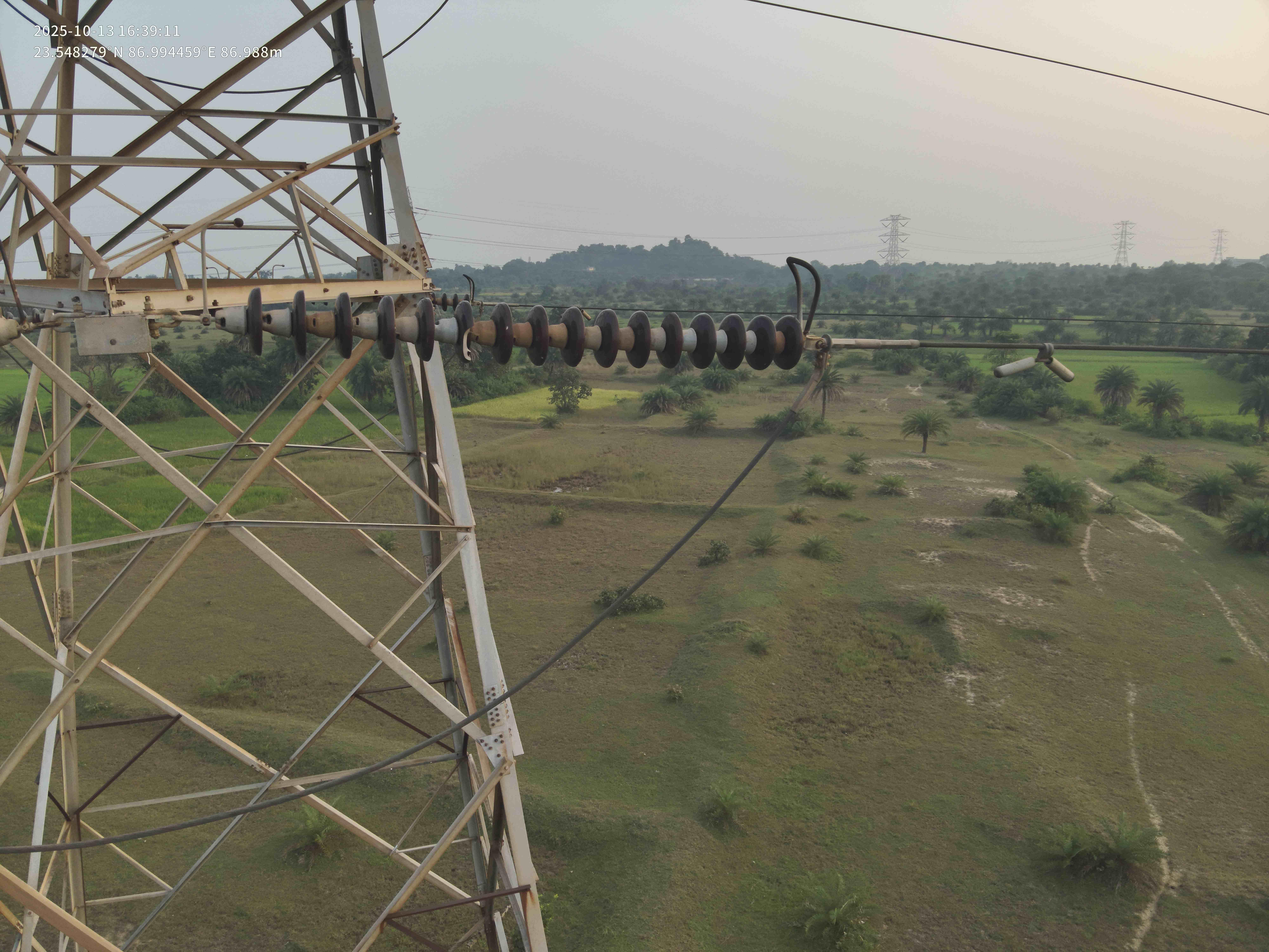broken_insulator: (453, 297, 481, 365)
